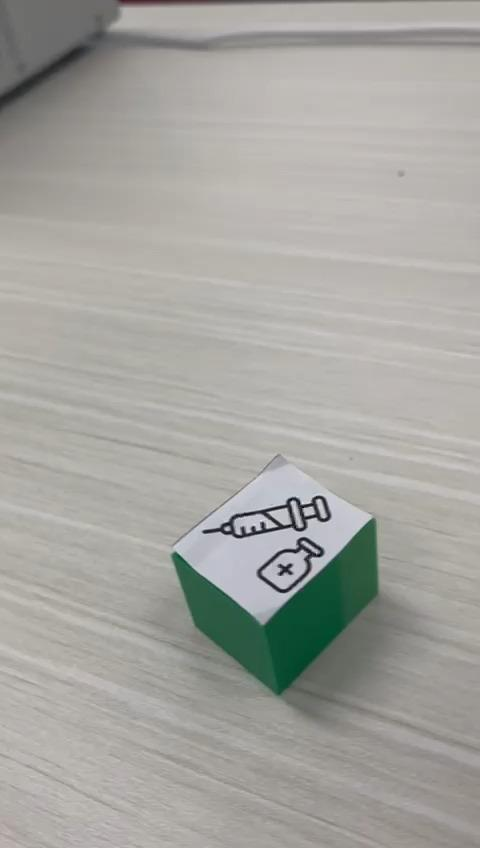antiseptic cream: (169, 452, 380, 695)
